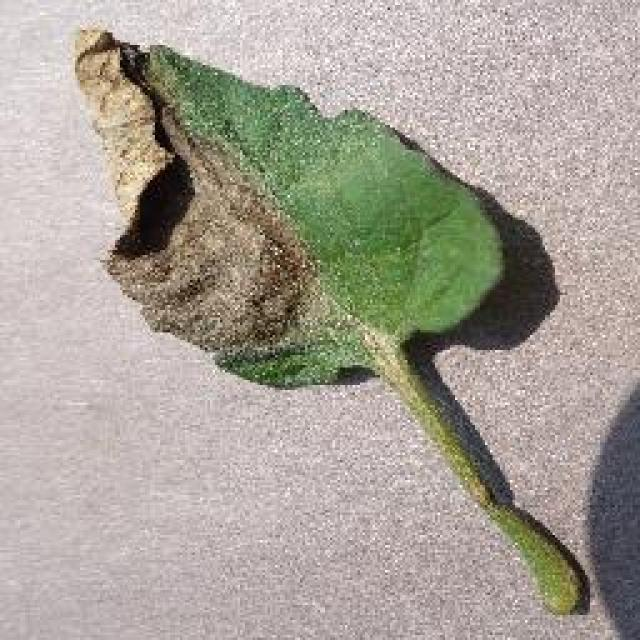Tomato late blight leaf: (69, 24, 508, 393)
